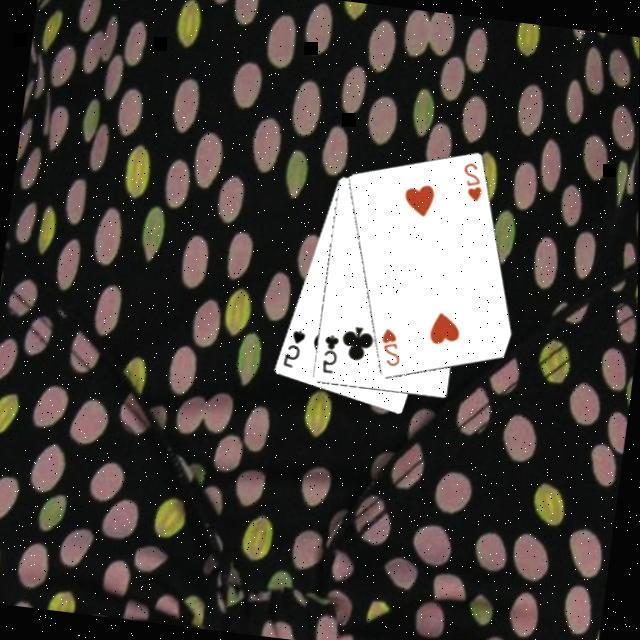2H: (455, 160, 486, 208), (374, 326, 405, 372)
5C: (316, 332, 341, 378)
5S: (278, 326, 307, 374)
